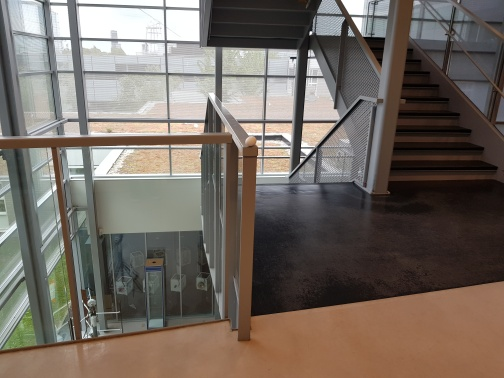egg: (244, 134, 258, 148)
